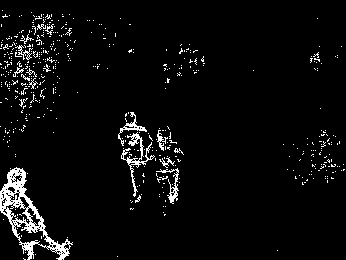person: (1, 167, 73, 260), (118, 109, 155, 209), (145, 124, 185, 216)
